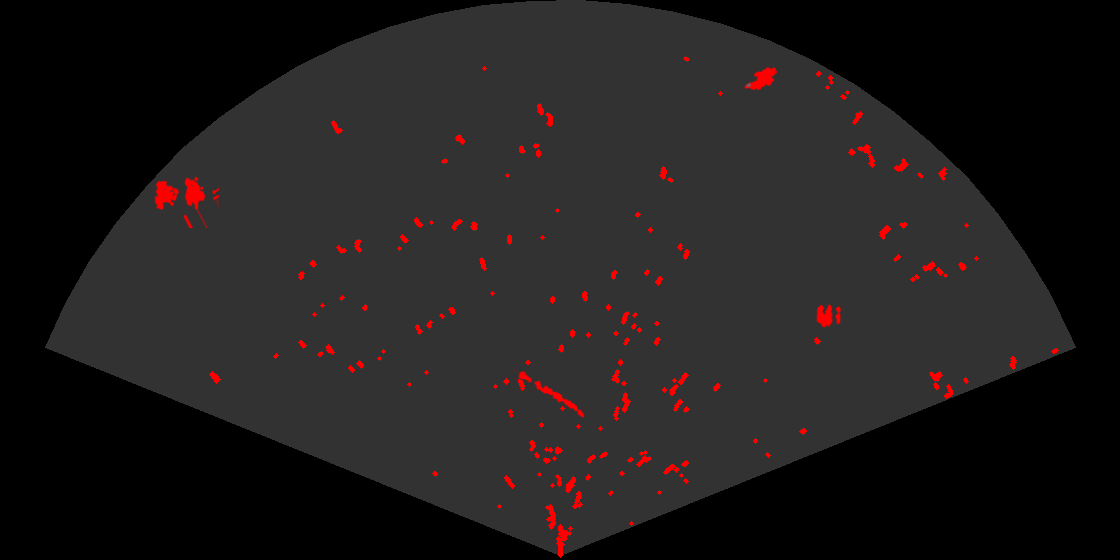AUV: (742, 65, 779, 92)
ball: (815, 302, 842, 329)
cage: (153, 175, 219, 228)
chain: (513, 367, 586, 419)
